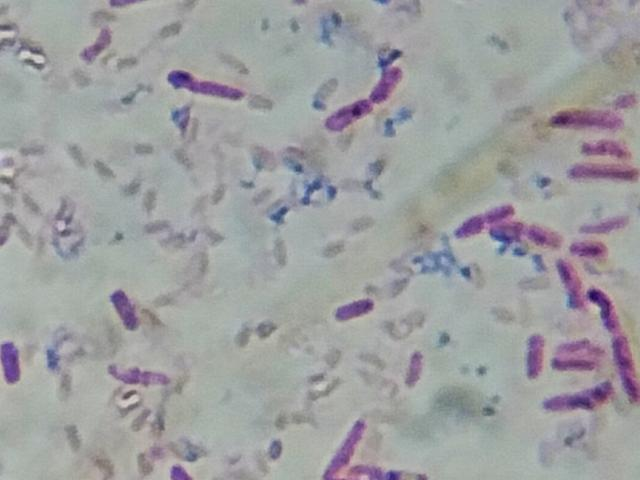E. coli: (168, 67, 256, 104), (551, 99, 626, 137), (109, 359, 185, 393), (549, 383, 614, 421), (326, 413, 359, 480), (459, 197, 512, 234), (575, 159, 640, 186), (615, 327, 640, 397), (328, 95, 373, 133), (496, 217, 561, 243), (371, 56, 406, 97), (519, 326, 546, 379), (553, 256, 584, 302), (556, 342, 608, 369), (112, 285, 140, 335), (329, 290, 378, 318), (2, 332, 25, 384), (593, 287, 621, 328), (583, 142, 632, 160), (162, 456, 194, 480), (573, 239, 606, 258)
